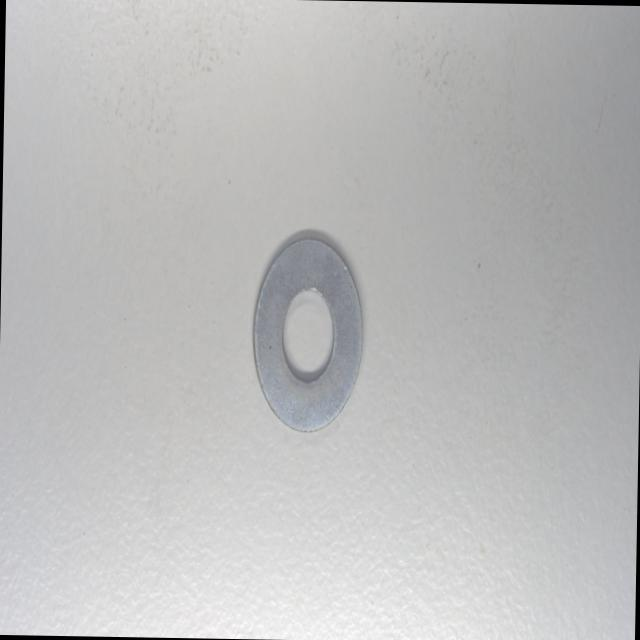washer: (250, 236, 367, 436)
